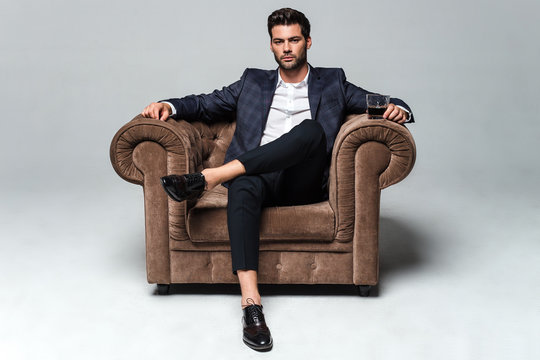chair: (132, 125, 402, 286)
human: (253, 12, 335, 205)
